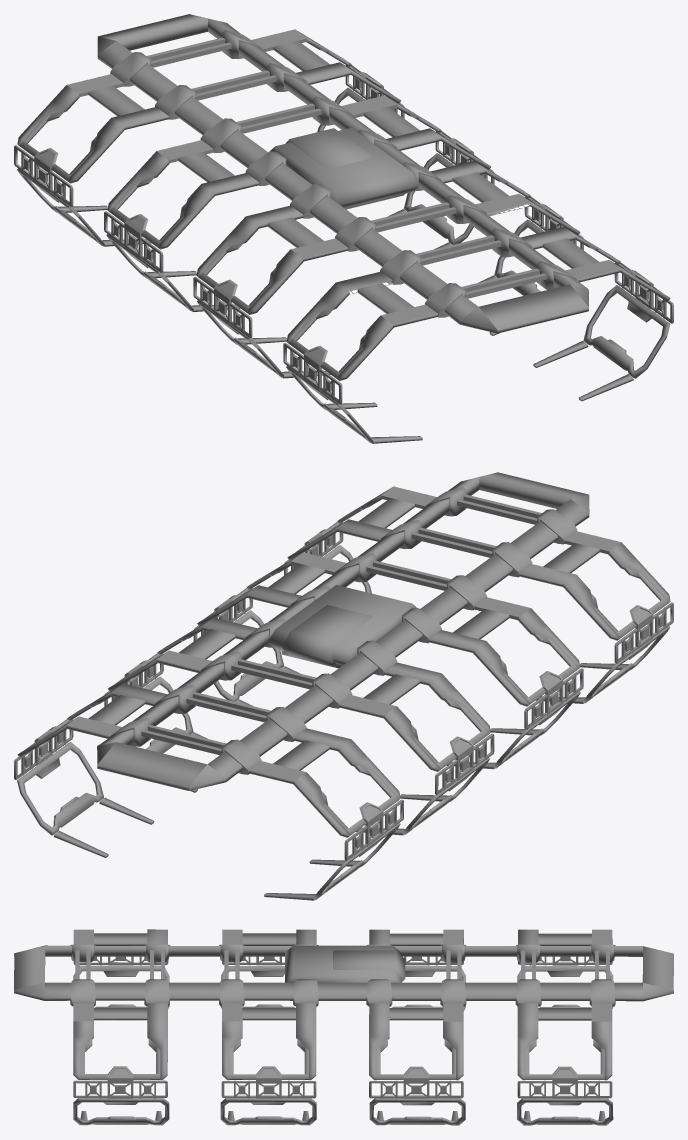
File: Eraudi Werft.FBX
3 renders of one model, top to bottom at view 1: azimuth 30°, elevation 25°; view 2: azimuth 150°, elevation 25°; view 3: azimuth 270°, elevation 25°, orthographic. The views are drawn at different scales.
Parts seen in each view (by area): view 1: Effect; view 2: Effect; view 3: Effect.
Boxes of the visible parts, left/top/right/bottom form: Effect: left=14, top=14, right=673, bottom=443; Effect: left=14, top=472, right=673, bottom=900; Effect: left=14, top=929, right=673, bottom=1125.
Bounding box in the file's own units: 59.47 × 25.1 × 123.
